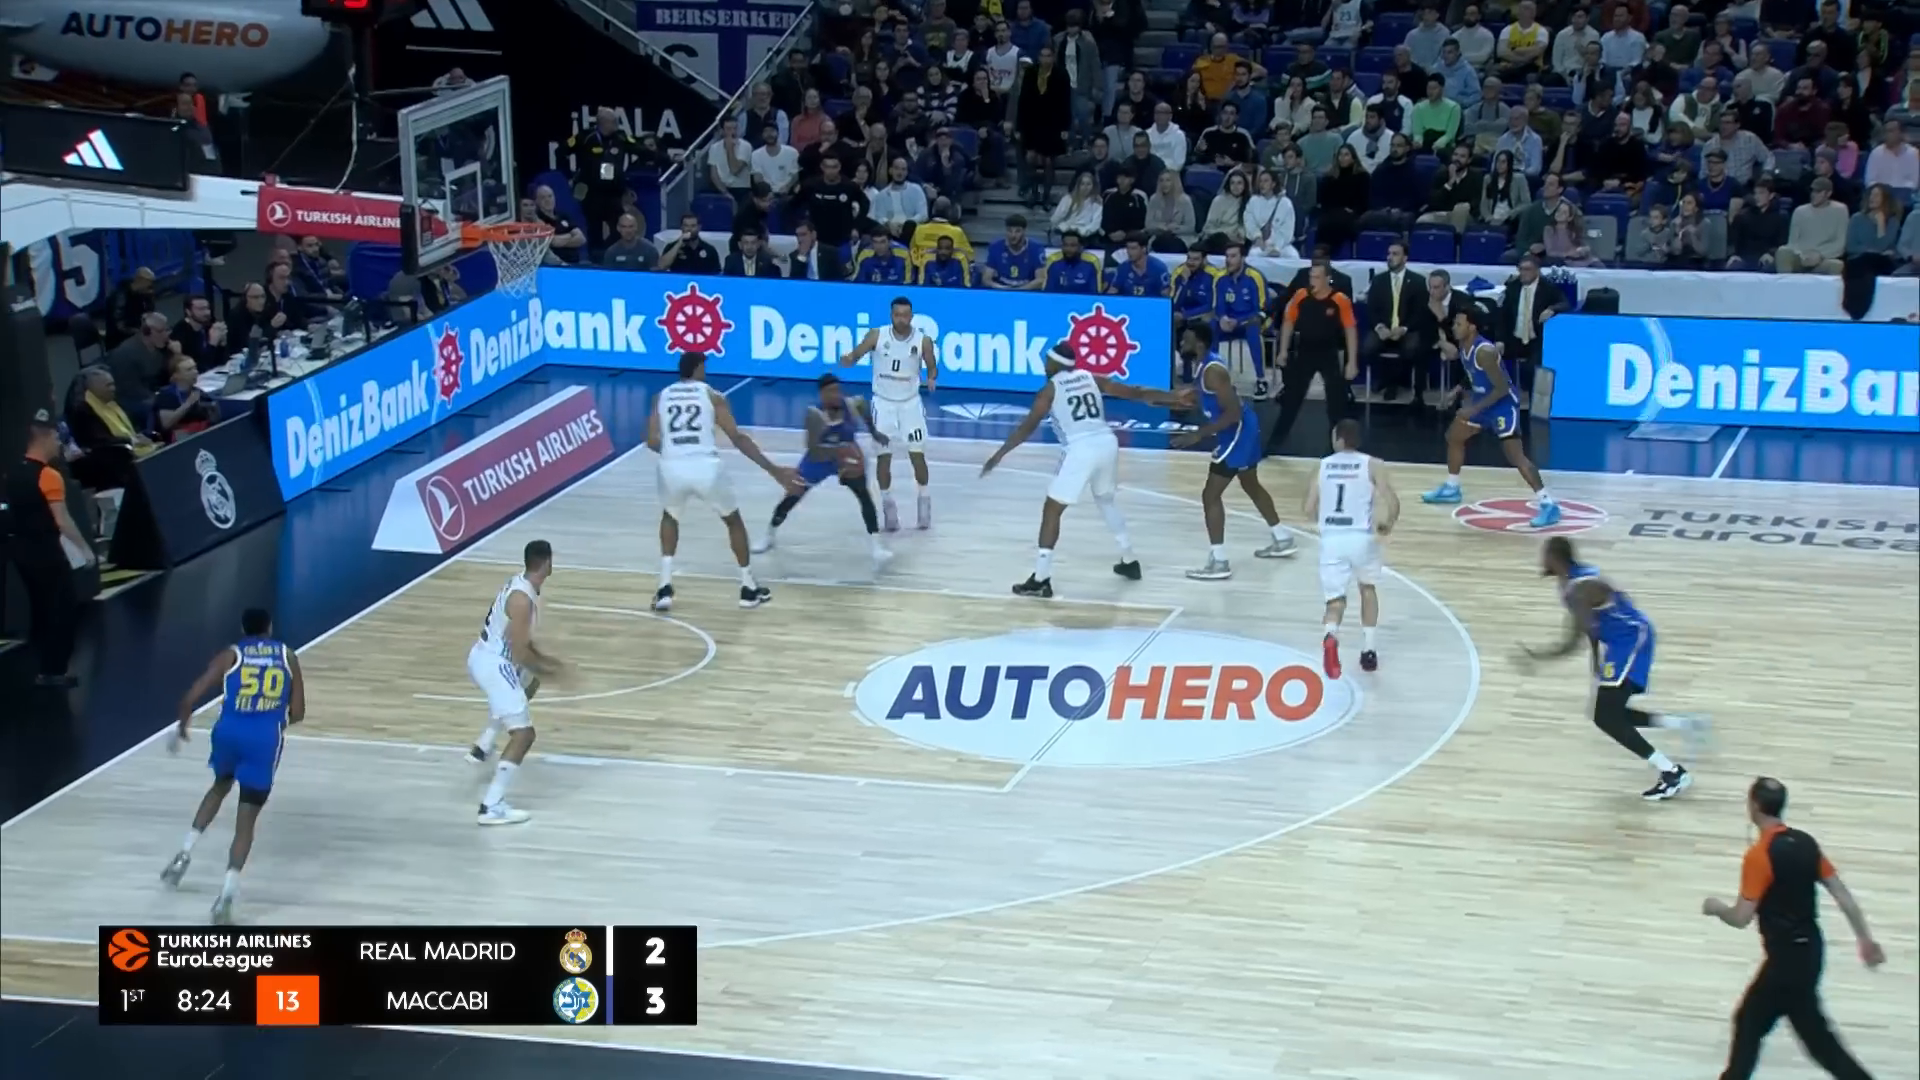ball: (832, 444, 869, 483)
net: (487, 220, 555, 298)
